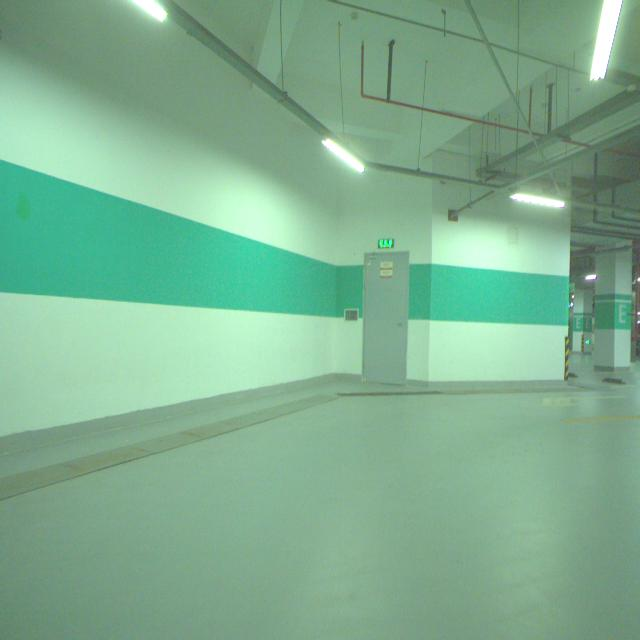pillar: (594, 247, 632, 370)
